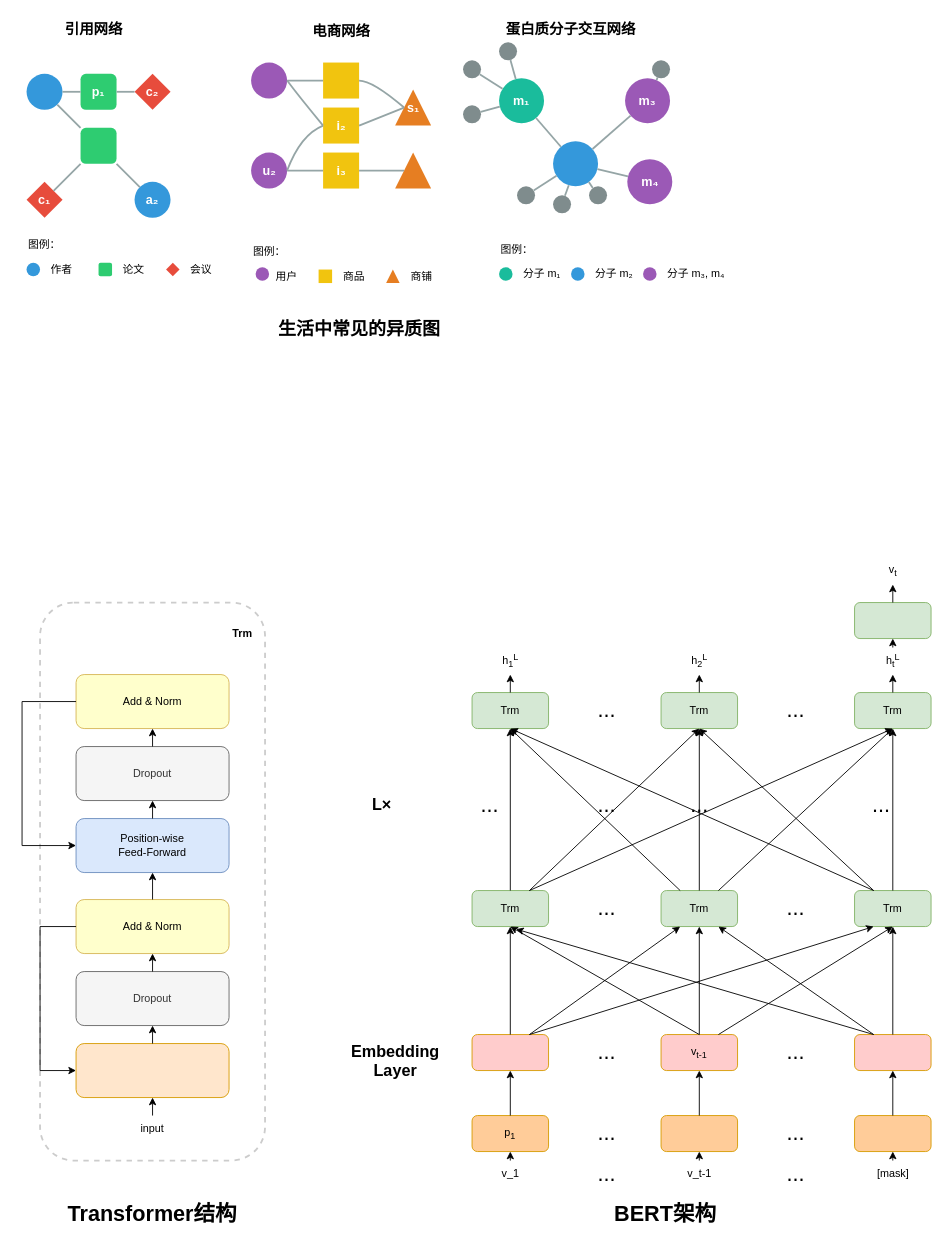
The diagram is 947 pixels wide and 1248 high, and some of its shapes have lost their labels. Here are the shapes that lost their labels. From the top down, the centre of each, then its label:
[44,91]: a₁
[269,80]: u₁
[341,80]: i₁
[98,145]: p₂
[575,163]: m₂
[413,170]: s₂
[892,620]: Projection
[152,1070]: Multi-Head Attention
[510,1052]: v 1
[892,1052]: v mask
[699,1133]: p t-1
[892,1133]: p t
